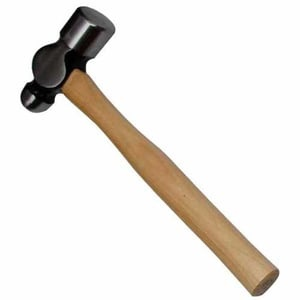hammer: (19, 5, 281, 299)
